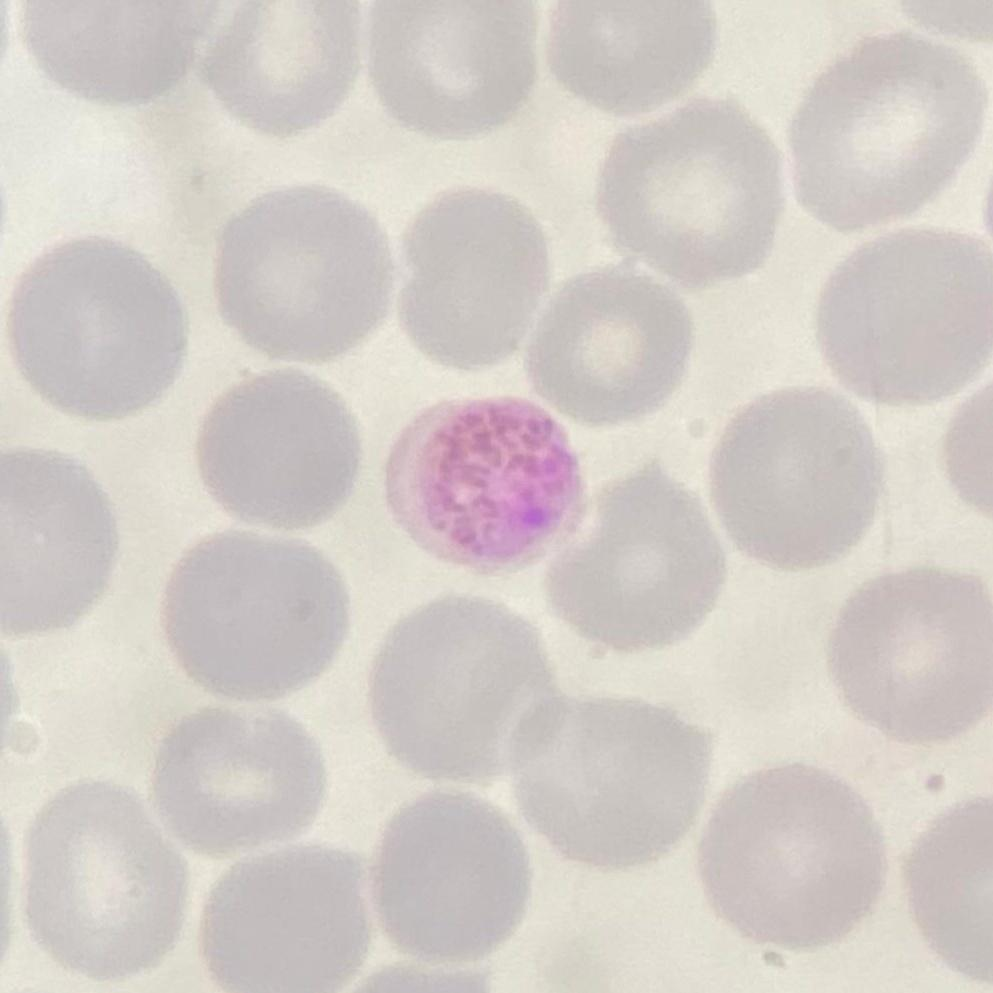Infected: (382, 393, 588, 574)
Uninfected: (795, 26, 981, 240), (372, 596, 554, 797), (508, 688, 702, 867), (210, 183, 396, 369), (693, 768, 881, 949), (158, 523, 353, 697), (547, 461, 724, 652), (23, 781, 191, 982), (8, 238, 191, 415), (595, 101, 778, 277), (712, 383, 888, 564), (828, 561, 991, 751), (390, 183, 548, 370), (818, 233, 993, 400), (377, 783, 534, 969), (522, 261, 689, 432), (192, 366, 359, 527), (357, 0, 544, 140), (157, 703, 324, 852), (200, 848, 369, 993), (0, 453, 119, 634), (211, 0, 366, 134), (23, 0, 206, 107), (552, 3, 719, 119)
